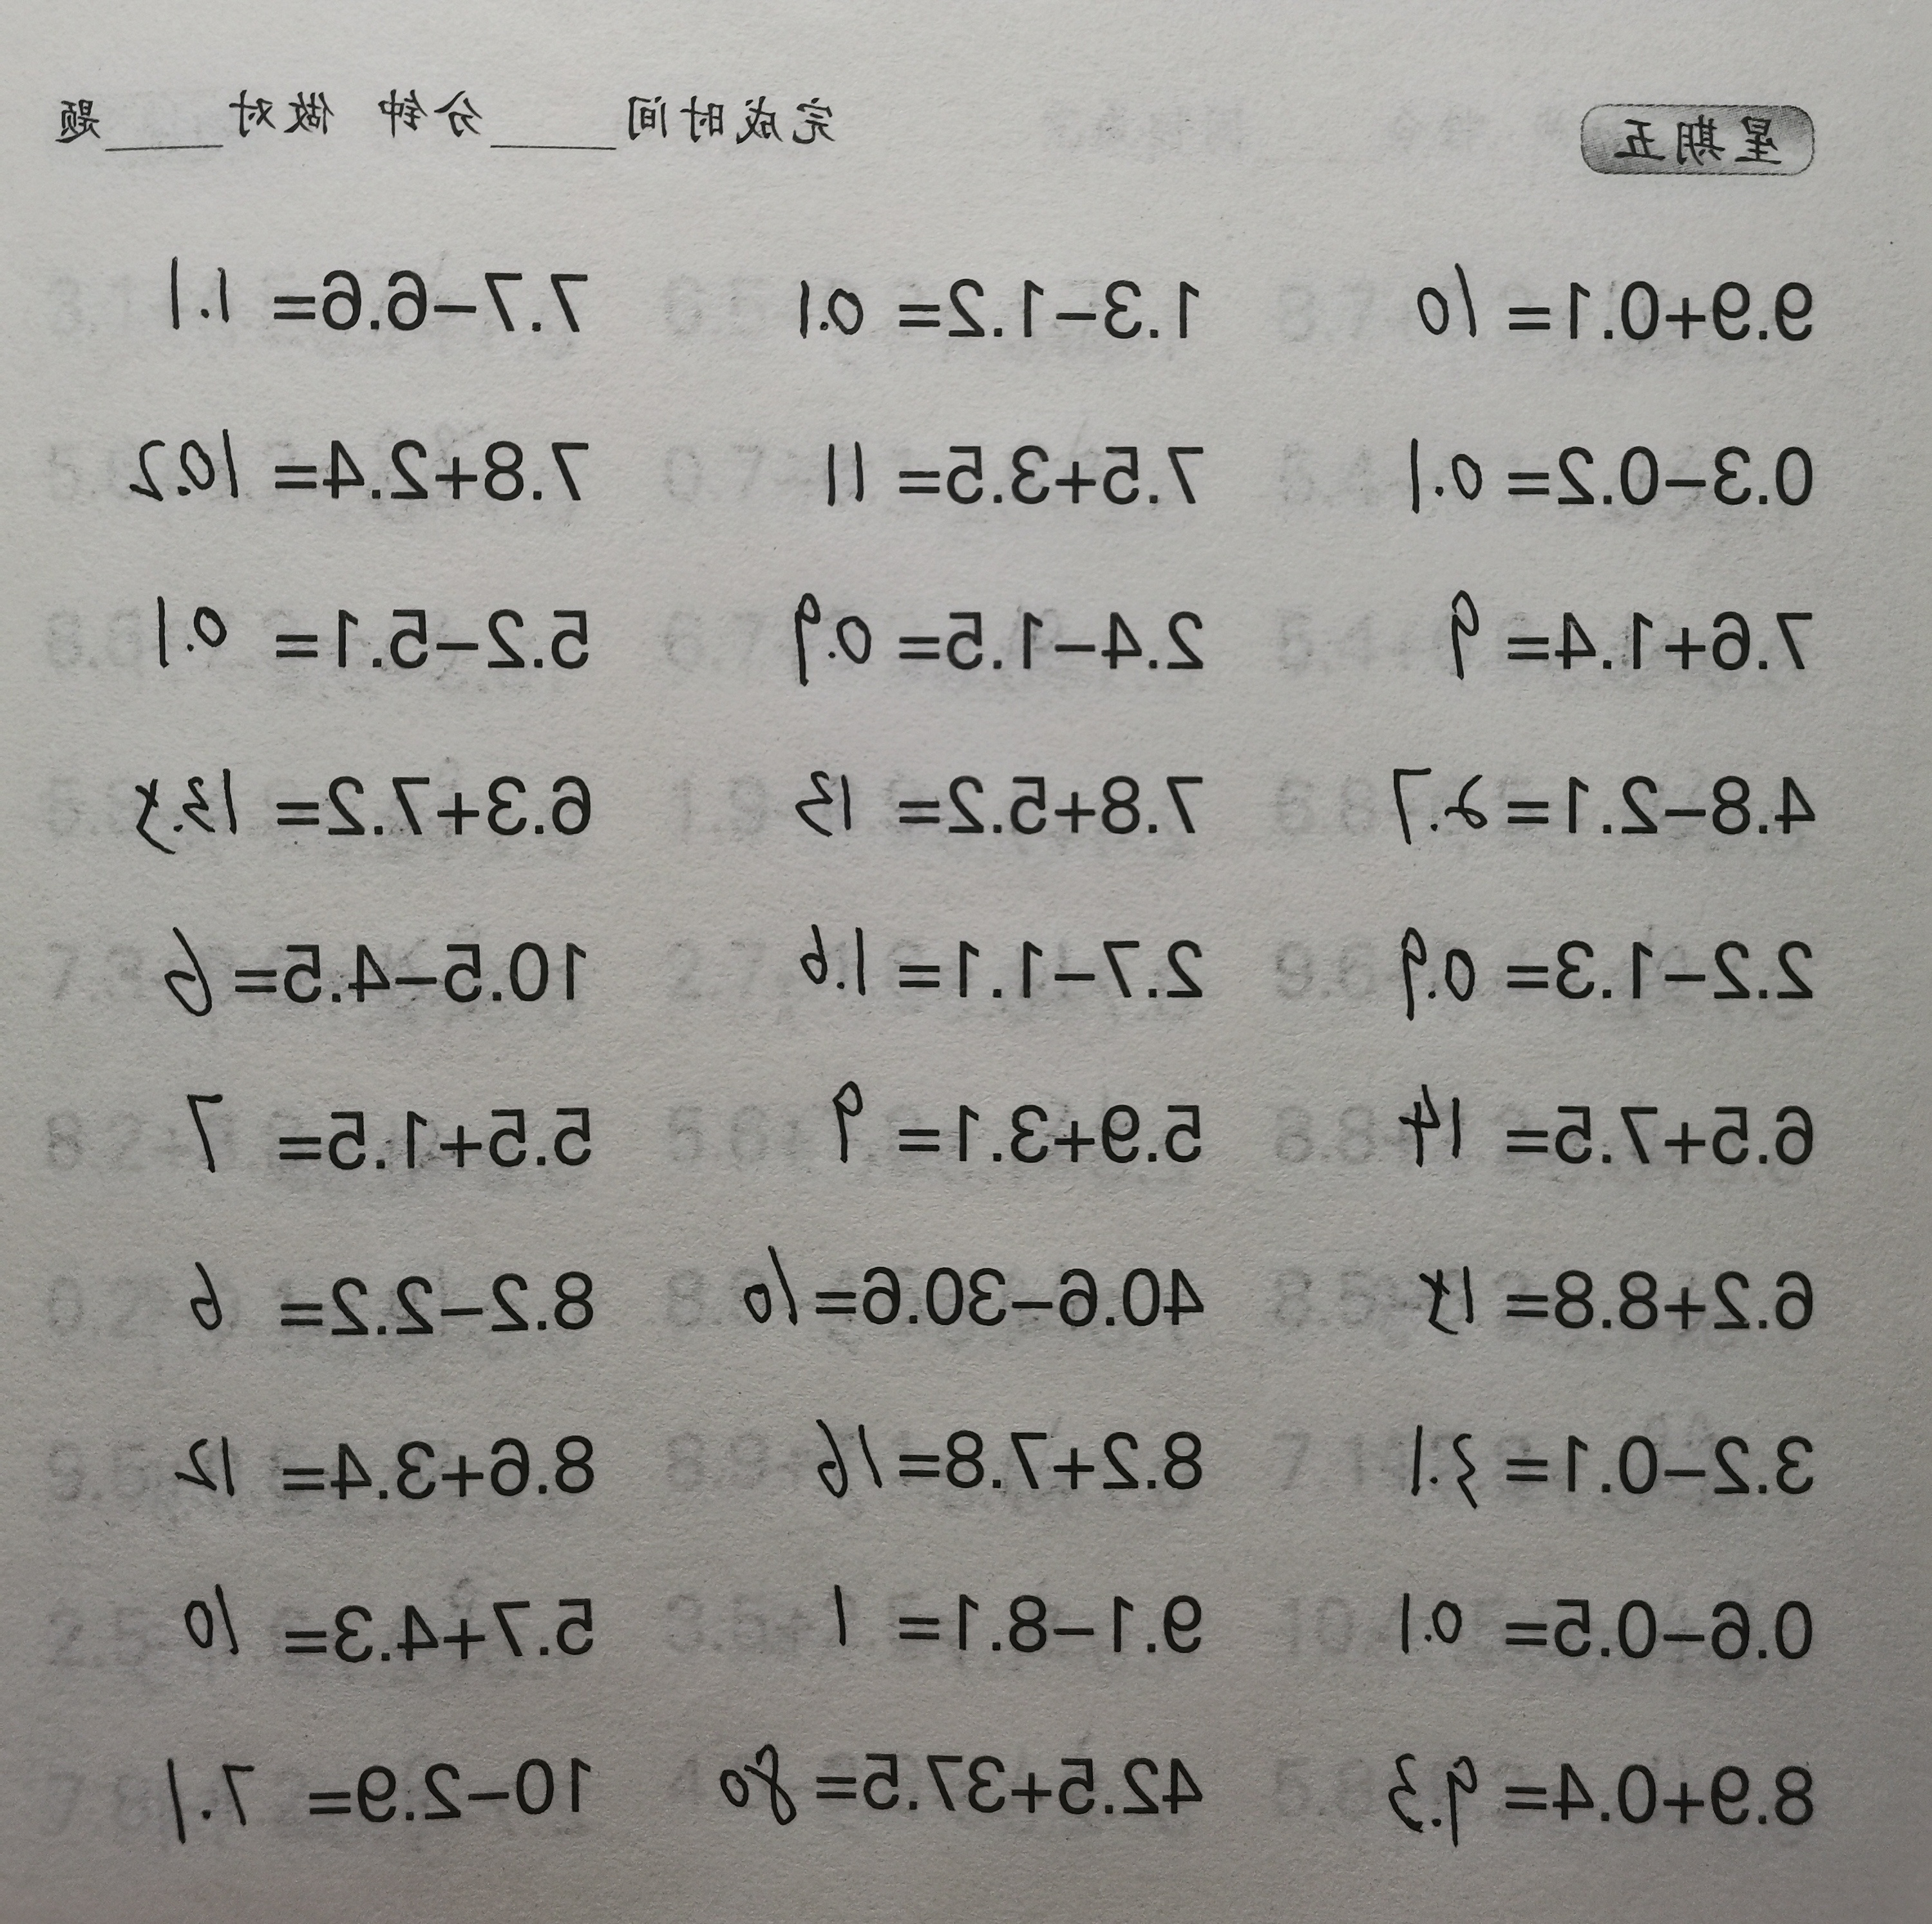equation: (123, 740, 617, 869), (171, 1385, 626, 1515), (153, 1068, 615, 1195), (118, 1739, 606, 1859), (1378, 1718, 1835, 1845), (728, 1233, 1216, 1350), (155, 907, 591, 1036), (1378, 744, 1840, 862), (122, 412, 603, 525), (698, 1732, 1213, 1836), (791, 735, 1216, 860), (777, 576, 1218, 696), (157, 1568, 612, 1683), (1391, 405, 1833, 522), (1373, 1570, 1835, 1681), (818, 1057, 1213, 1186), (799, 1556, 1225, 1674), (139, 569, 603, 675), (1382, 911, 1823, 1022), (806, 412, 1227, 527), (1430, 571, 1842, 685), (1393, 1242, 1844, 1346), (770, 247, 1229, 349), (1398, 1069, 1839, 1175), (1387, 1413, 1826, 1519), (146, 240, 596, 342), (180, 1240, 624, 1343), (806, 1401, 1209, 1510), (776, 909, 1207, 1010), (1400, 247, 1830, 347)
